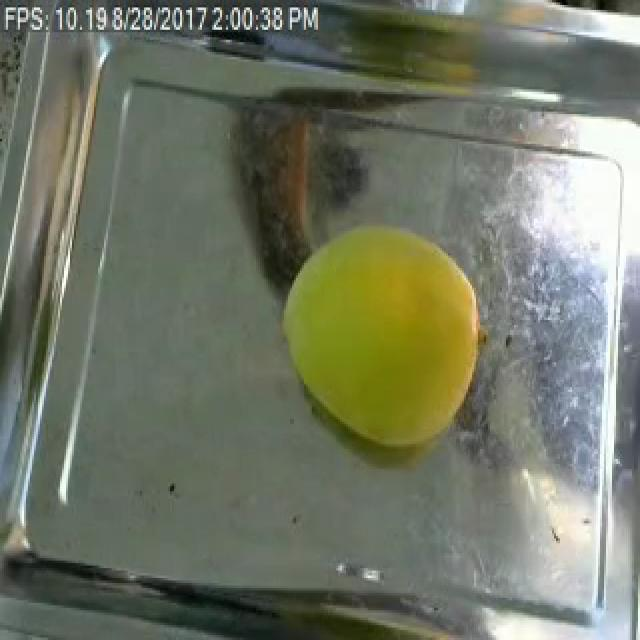fruit: (260, 204, 496, 472)
